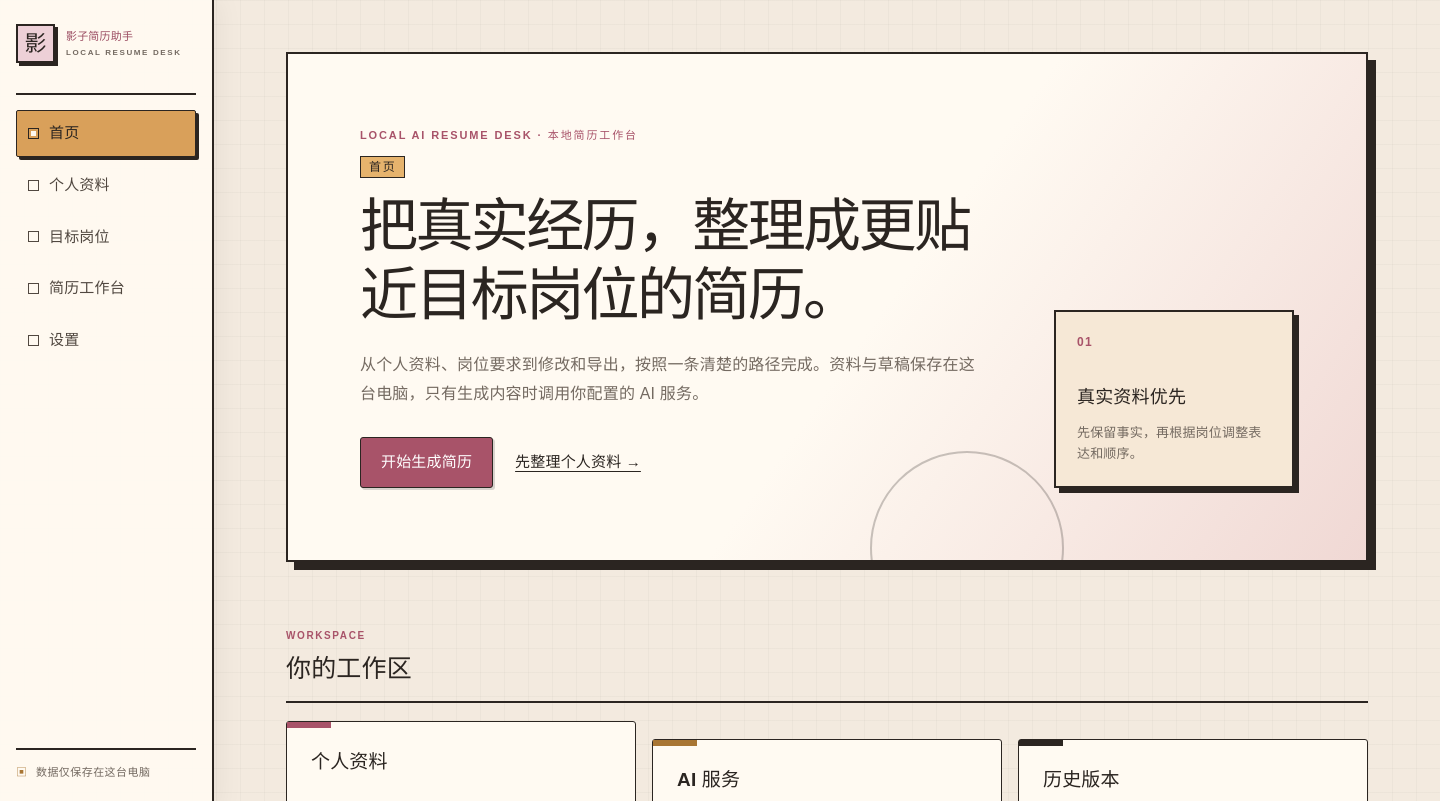
Test: navigates to profile
The width and height of the screenshot is (1440, 801).
What coordinates should you click on to do the following:
click the link "个人资料"
I would click on:
 (79, 184)
Its box is 49,176 -> 110,193.
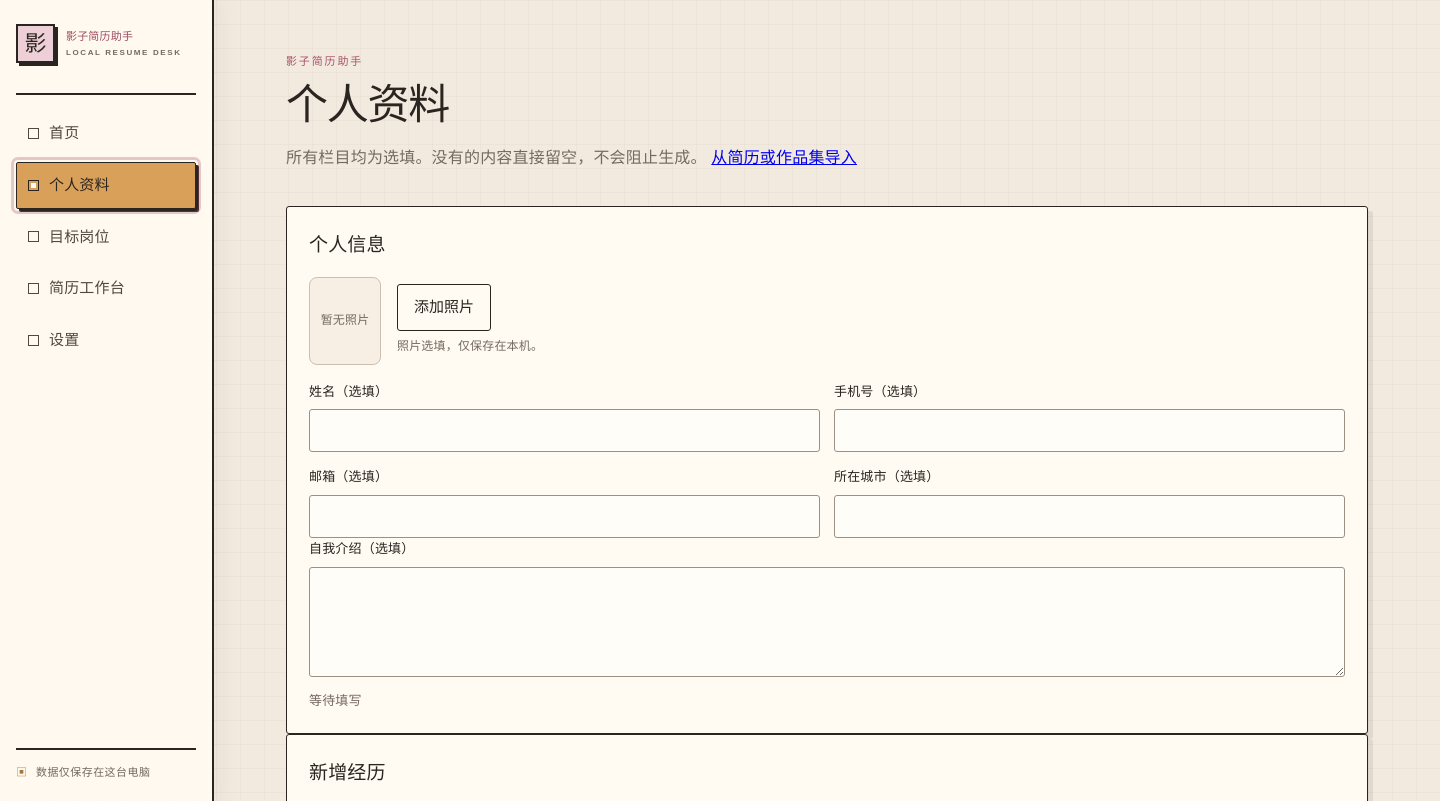
Expected: the heading "个人资料" is shown, 286,81 -> 449,128
